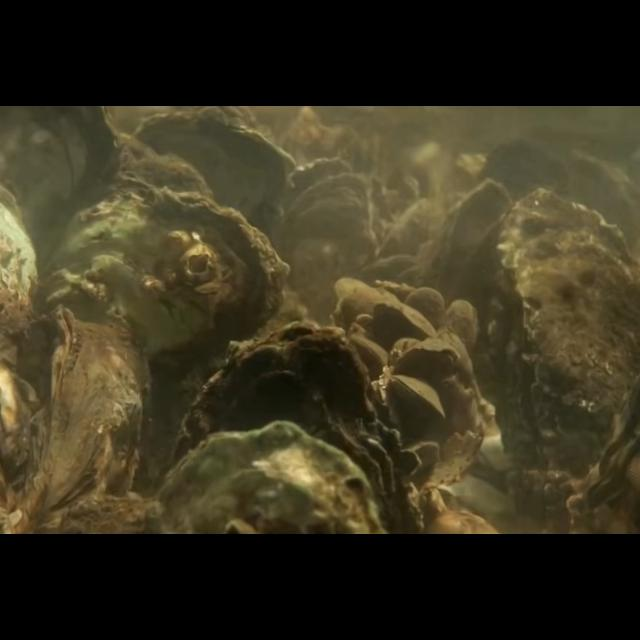Oyster-Closed: (56, 185, 290, 462), (182, 321, 422, 535), (24, 306, 152, 534), (152, 421, 390, 535), (431, 178, 515, 332), (374, 300, 436, 336), (396, 345, 460, 377), (404, 287, 444, 335), (444, 298, 478, 349)
Oyster-Open: (488, 188, 640, 484), (273, 158, 369, 300), (391, 375, 445, 417)
